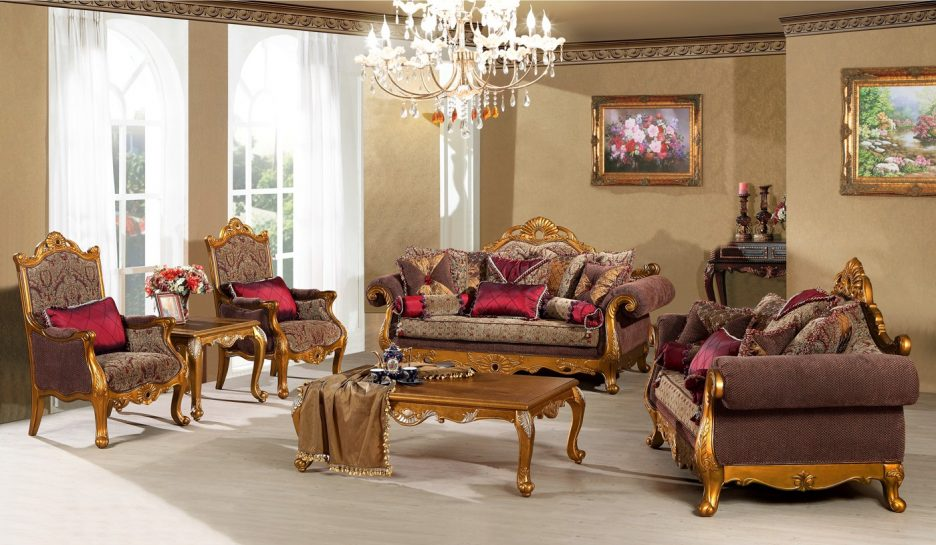Carving Chair: (669, 284, 930, 518), (1, 233, 191, 445)
Carving Table: (319, 358, 609, 503)
